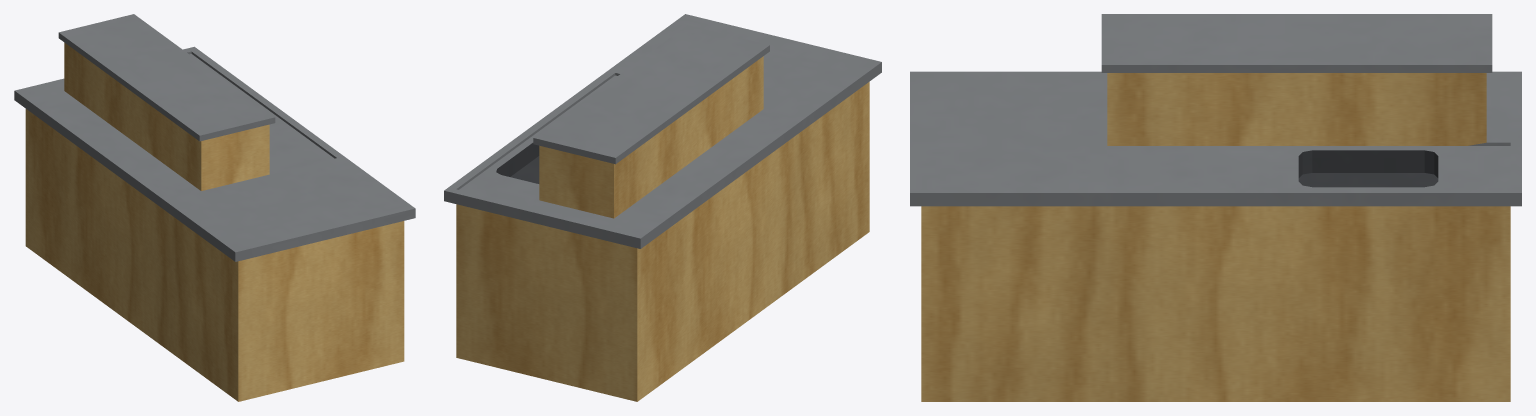
File: SM_Bancada Cozinha.fbx
The picture shows the model from 3 angles, left to right: view 1: azimuth 30°, elevation 25°; view 2: azimuth 150°, elevation 25°; view 3: azimuth 270°, elevation 25°; orthographic projection. The views are drawn at different scales.
Parts seen in each view (by area): view 1: SM_Bancada Cozinha; view 2: SM_Bancada Cozinha; view 3: SM_Bancada Cozinha.
Part boxes in pixels (box(x1,y1,x2,y2)): SM_Bancada Cozinha: box(14, 14, 415, 401); SM_Bancada Cozinha: box(444, 14, 881, 401); SM_Bancada Cozinha: box(910, 14, 1521, 401).
Bounding box in the file's own units: 97.68 × 110 × 208.
